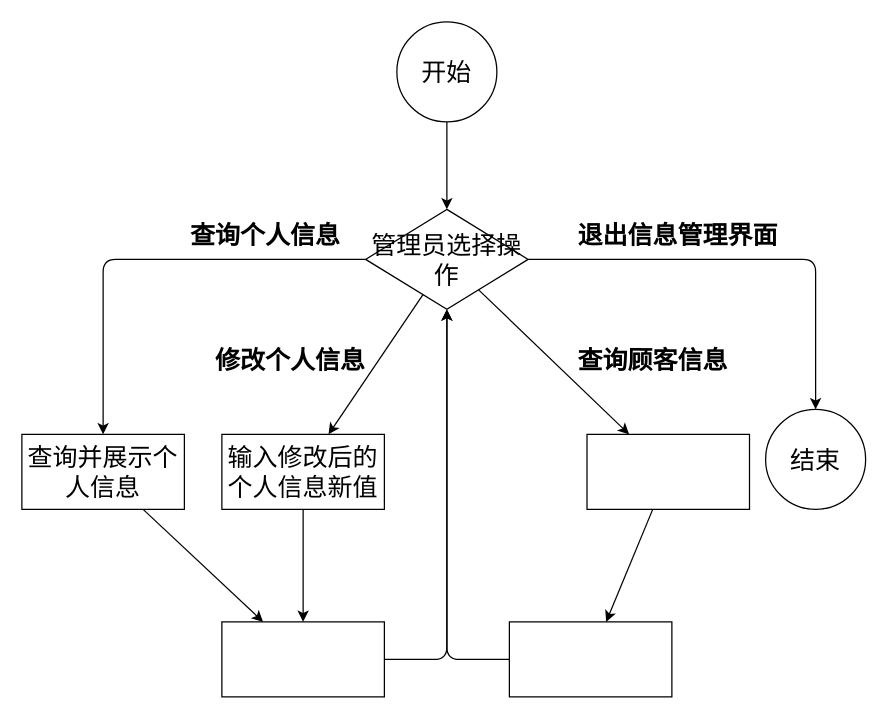
The diagram is 888 pixels wide and 719 high, and some of its shapes have lost their labels. Here are the shapes that lost their labels. From the top down, the centre of each, then its label:
point 668,471: 输入修改后的评论新值
point 302,659: 刷新并展示个人信息
point 590,659: 刷新并展示查询的顾客信息
